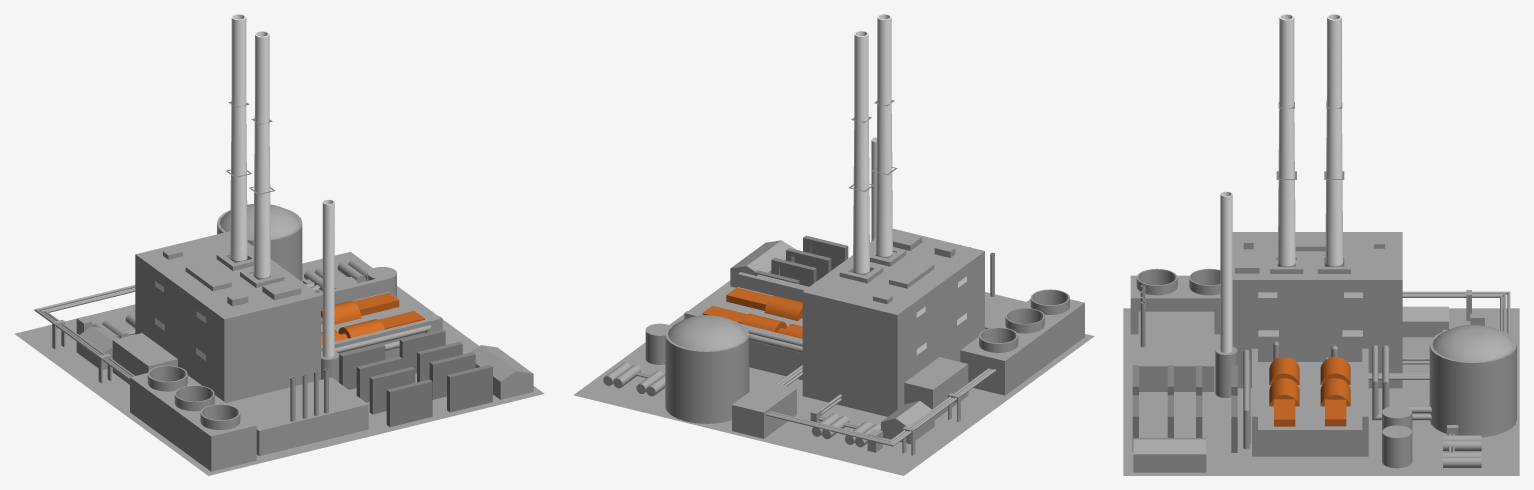
File: Gas+power+4+-+500+MW (1) 1.fbx
3 views of the same model, side by side, from view 1: azimuth 30°, elevation 25°; view 2: azimuth 150°, elevation 25°; view 3: azimuth 270°, elevation 25° (orthographic). The views are drawn at different scales.
Visible parts, largest first — view 1: Model; view 2: Model; view 3: Model.
Boxes of the visible parts, x1,y1,x2,y2 form: Model: (14,14,544,475); Model: (573,14,1094,475); Model: (1123,14,1519,475).
Bounding box in the file's own units: 127 × 126 × 127.
